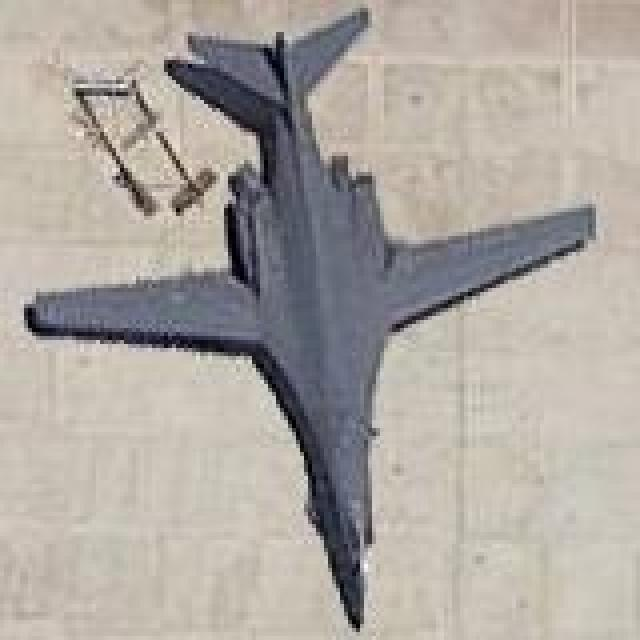B-1_TopDown: (20, 0, 596, 628)
